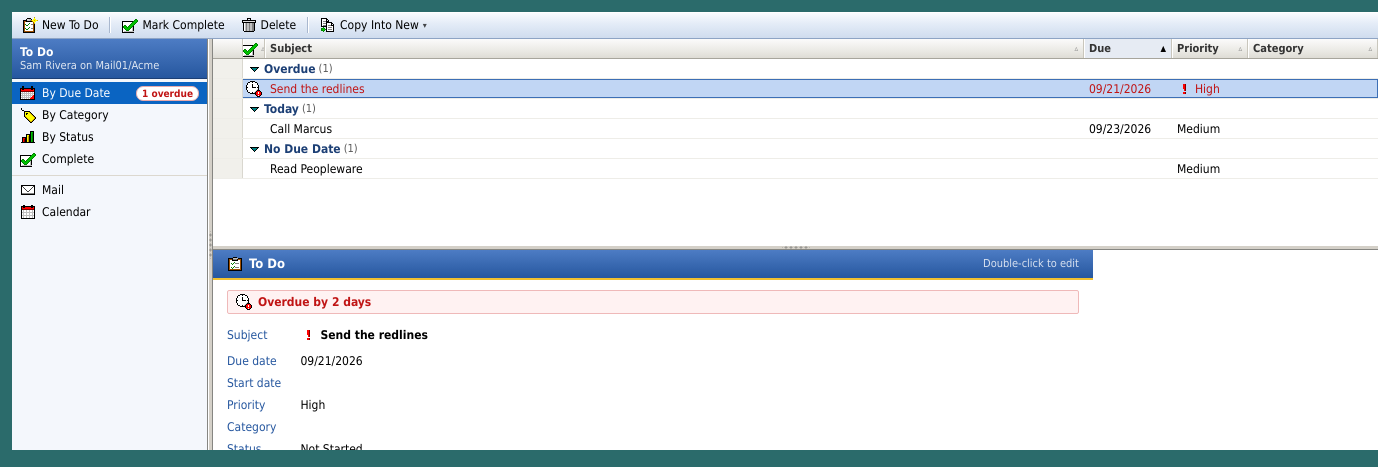
Test: To Do view › shows finished To Dos in the Complete view
Click the text "Complete" at (68,159), box [42,152,94,166]
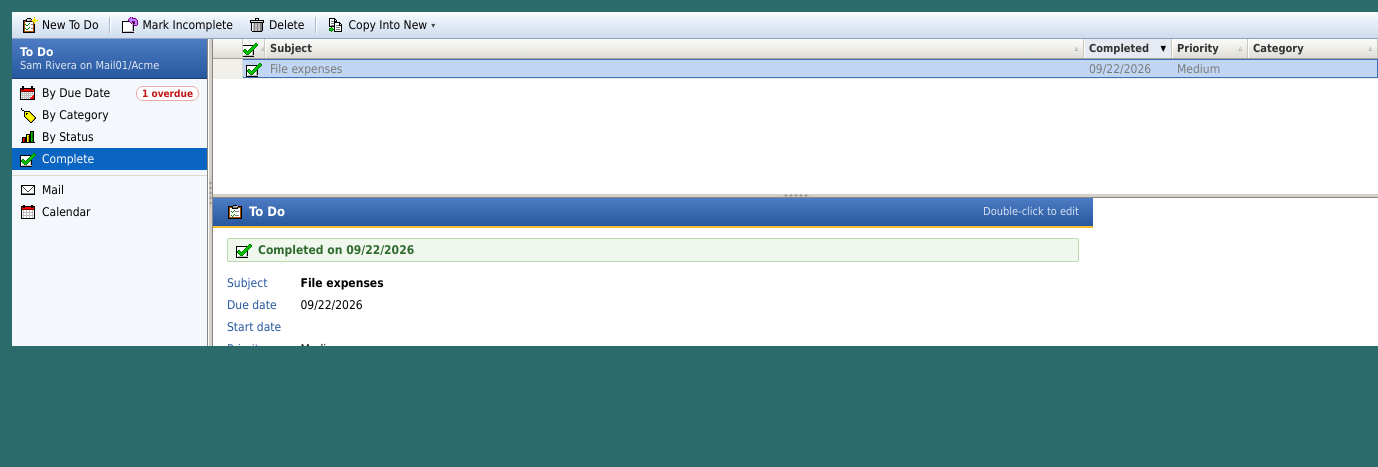
Expected: the element with class "nview-row" is shown, [213,59,1377,79]
Expected: the text "Completed" is shown, [1089,42,1149,55]
